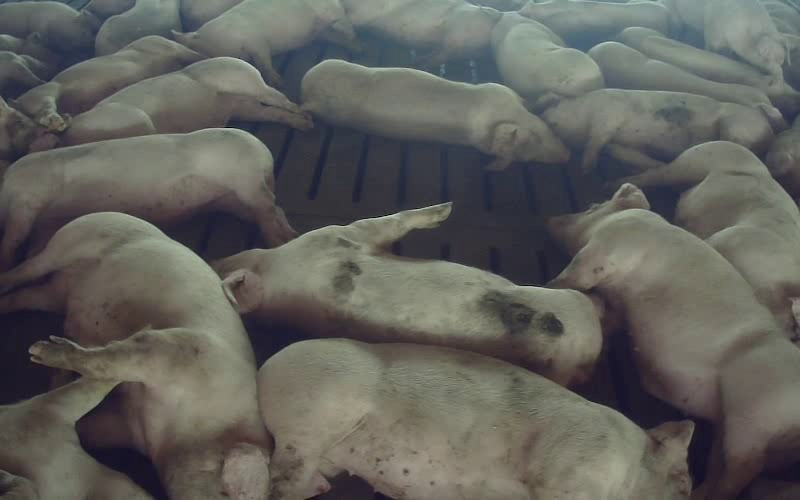pig: (548, 184, 799, 496), (213, 203, 601, 384), (258, 339, 691, 499), (0, 128, 295, 268), (630, 141, 799, 332), (302, 60, 568, 169), (62, 57, 312, 145), (542, 89, 772, 171), (15, 36, 202, 131), (588, 42, 783, 129), (619, 27, 799, 117), (174, 0, 354, 86), (491, 12, 604, 102), (664, 0, 784, 78), (344, 0, 501, 59)
